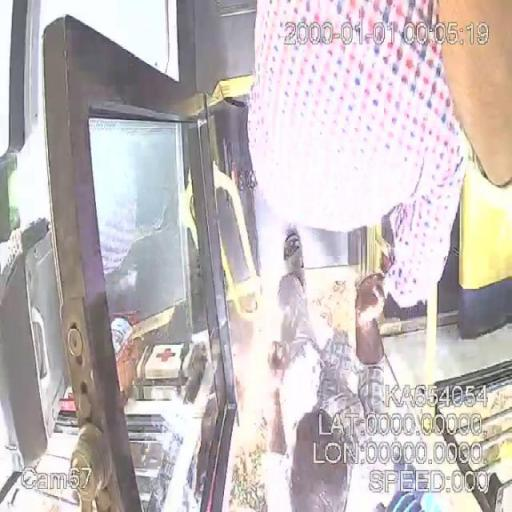persona: (246, 0, 510, 316), (266, 227, 388, 511)
